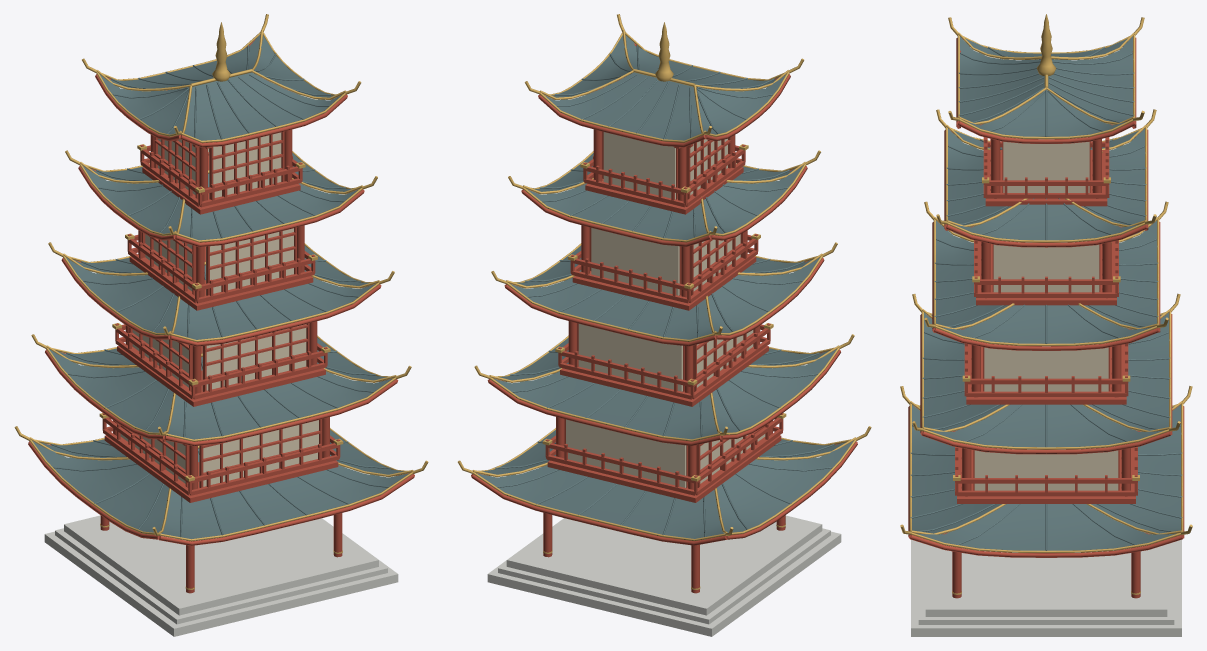
Rendered from pagoda.glb.
3 views of the same model, side by side, from view 1: azimuth 30°, elevation 25°; view 2: azimuth 150°, elevation 25°; view 3: azimuth 270°, elevation 25° (orthographic). The views are drawn at different scales.
Visible parts, largest first — view 1: pagoda_Roof, pagoda_Timber, pagoda_Stone, pagoda_Gold, pagoda_Paper; view 2: pagoda_Roof, pagoda_Timber, pagoda_Stone, pagoda_Paper, pagoda_Gold; view 3: pagoda_Roof, pagoda_Timber, pagoda_Stone, pagoda_Paper, pagoda_Gold.
Boxes of the visible parts, x1=… form: pagoda_Roof: x1=32, y1=35, x2=409, y2=539; pagoda_Timber: x1=28, y1=39, x2=414, y2=593; pagoda_Stone: x1=44, y1=515, x2=398, y2=636; pagoda_Gold: x1=14, y1=14, x2=428, y2=589; pagoda_Paper: x1=120, y1=132, x2=318, y2=486; pagoda_Roof: x1=476, y1=35, x2=853, y2=539; pagoda_Timber: x1=471, y1=43, x2=857, y2=593; pagoda_Stone: x1=487, y1=515, x2=841, y2=636; pagoda_Paper: x1=566, y1=132, x2=765, y2=487; pagoda_Gold: x1=457, y1=14, x2=871, y2=589; pagoda_Roof: x1=910, y1=36, x2=1182, y2=550; pagoda_Timber: x1=908, y1=37, x2=1184, y2=598; pagoda_Stone: x1=911, y1=539, x2=1181, y2=636; pagoda_Paper: x1=974, y1=137, x2=1118, y2=490; pagoda_Gold: x1=900, y1=14, x2=1192, y2=594.
Bounding box in the file's own units: 8.48 × 15.87 × 7.45.
